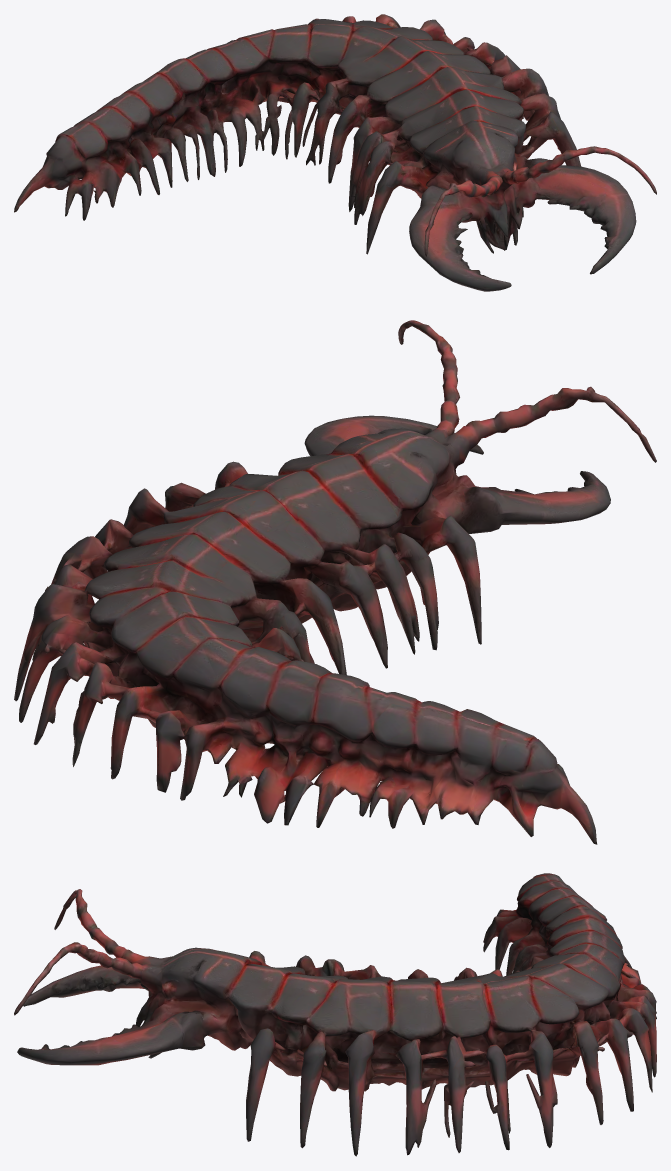
Rendered from giant_centipede.glb.
3 views of the same model, one above another, from view 1: azimuth 30°, elevation 25°; view 2: azimuth 150°, elevation 25°; view 3: azimuth 270°, elevation 25° (orthographic). The views are drawn at different scales.
Size of the model in its own units: 1.82 by 0.5339 by 2.
1 material, 1 textured.
